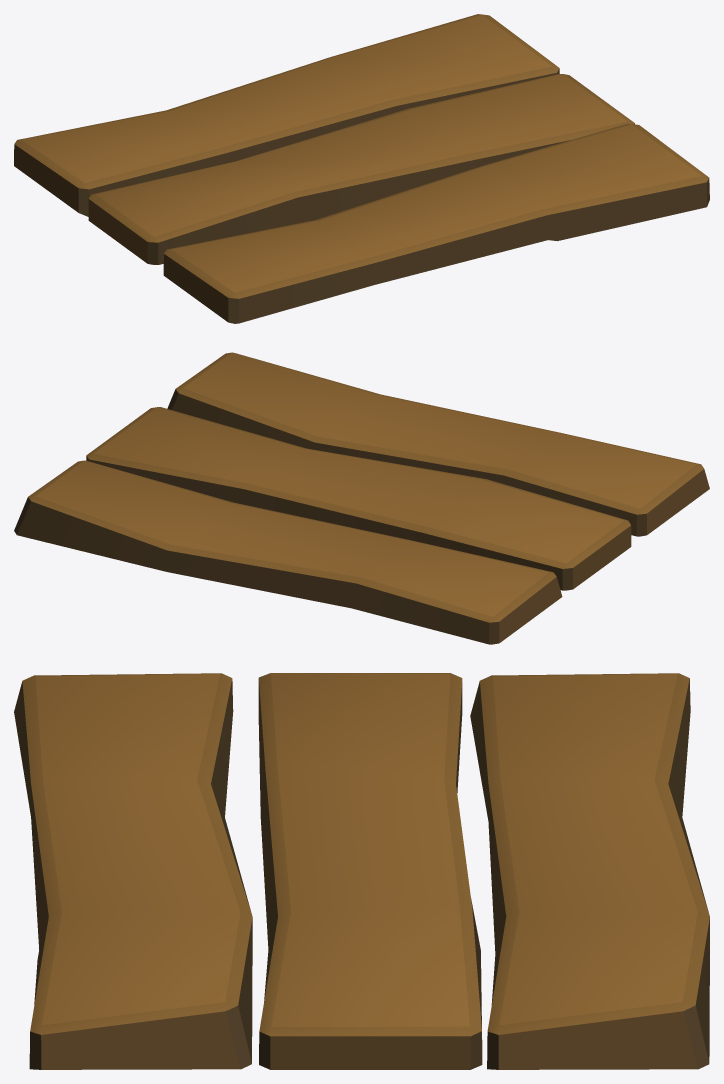
Rendered from pontoon2.fbx.
The picture shows the model from 3 angles, top to bottom: view 1: azimuth 30°, elevation 25°; view 2: azimuth 150°, elevation 25°; view 3: azimuth 270°, elevation 25°; orthographic projection. The views are drawn at different scales.
Visible parts, largest first — view 1: Cube.013; view 2: Cube.013; view 3: Cube.013.
Part boxes in pixels (x1,y1,x2,y2): Cube.013: (14,14,709,323); Cube.013: (14,352,709,644); Cube.013: (14,673,709,1069).
Bounding box in the file's own units: 140 × 10.59 × 113.
